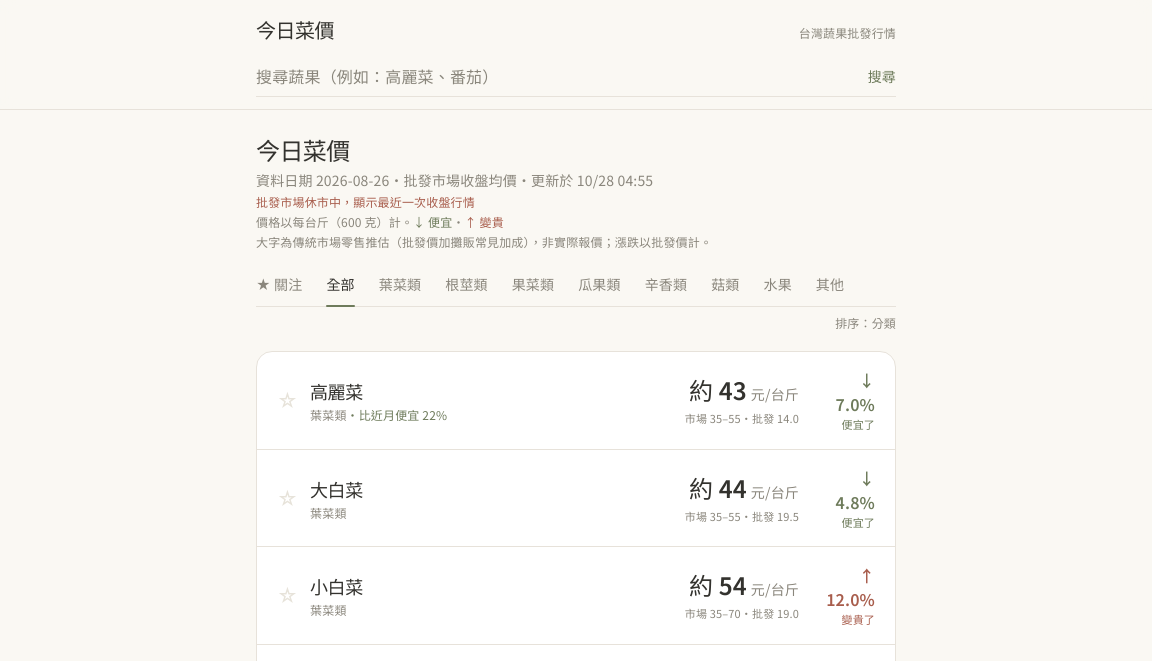
it: App (board-first) › searches within the board locally
Expected: the heading "高麗菜" is shown, [310,378,363,404]
Type "番茄" into the search field with placeholder "搜尋蔬果（例如：高麗菜、番茄）".
click(556, 76); type("番茄")  # box [256,56,856,96]
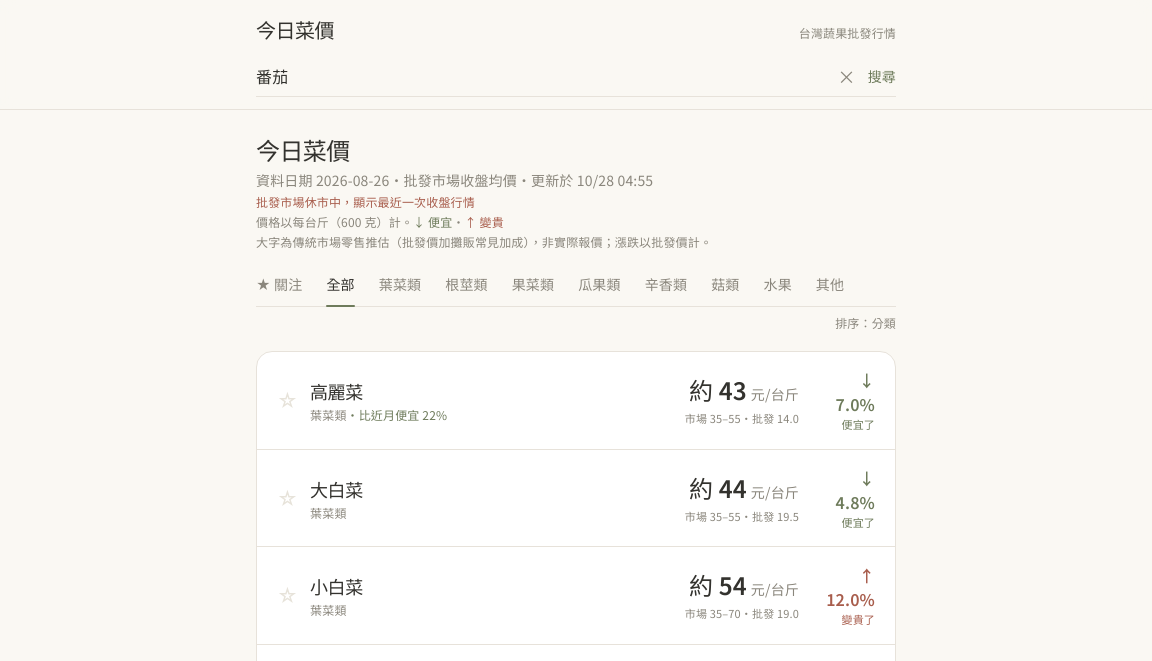
Click the button "搜尋".
click(882, 76)  # box [868,66,896,86]
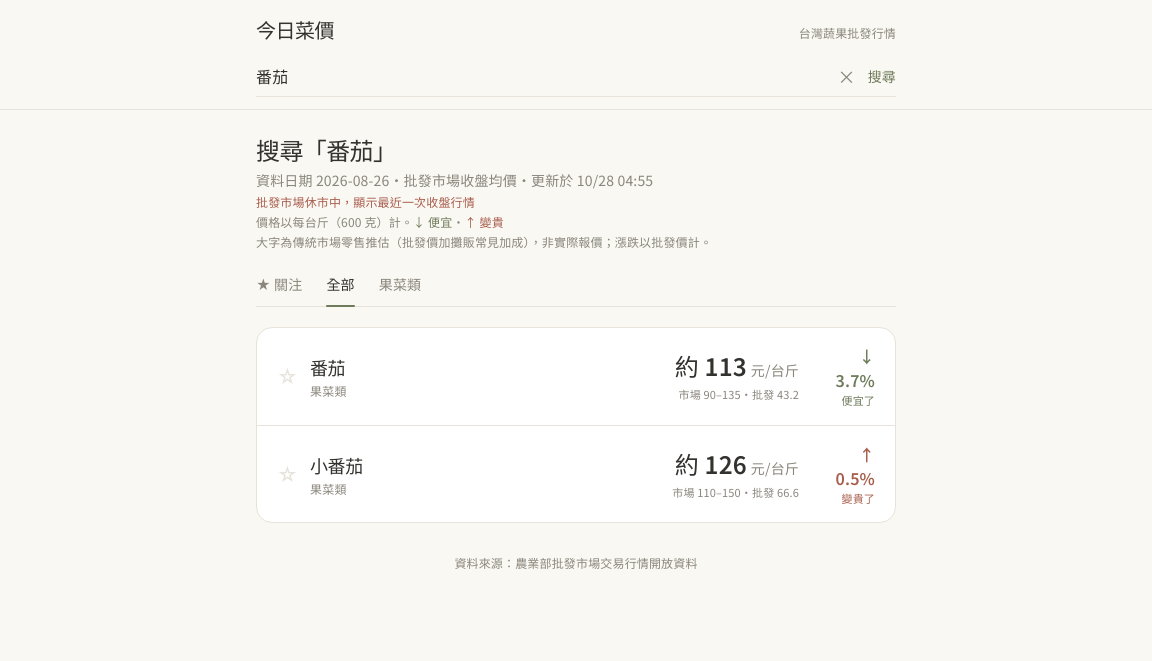
Expected: the heading "番茄" is shown, [310,353,347,381]
Now the heading "搜尋「番茄」" is shown, box [256,132,396,167]
Now the button "高麗菜" is gone
